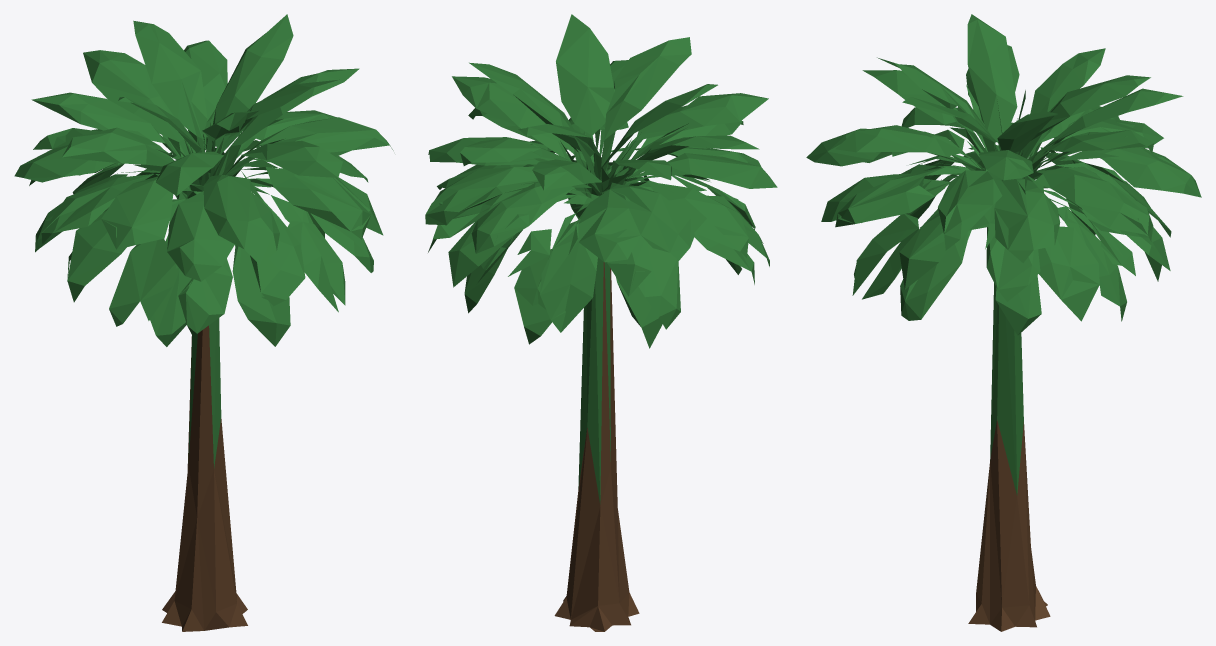
File: tree-1.glb
3 views of the same model, side by side, from view 1: azimuth 30°, elevation 25°; view 2: azimuth 150°, elevation 25°; view 3: azimuth 270°, elevation 25° (orthographic). The views are drawn at different scales.
Parts seen in each view (by area): view 1: output_unwrapped; view 2: output_unwrapped; view 3: output_unwrapped.
Part boxes in pixels (left/top/right/bottom): output_unwrapped: left=14, top=14, right=393, bottom=631; output_unwrapped: left=425, top=14, right=777, bottom=631; output_unwrapped: left=806, top=14, right=1201, bottom=631.
Size of the model in its own units: 4.26 by 7 by 4.55.
